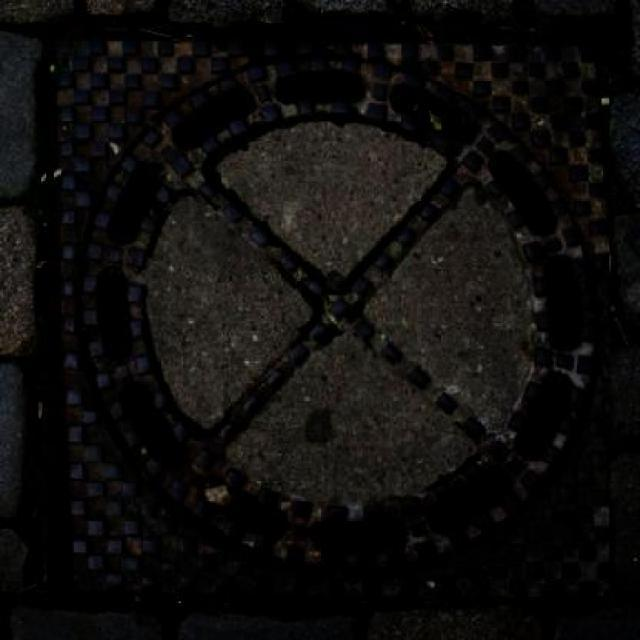Manhole: (45, 36, 610, 602)
